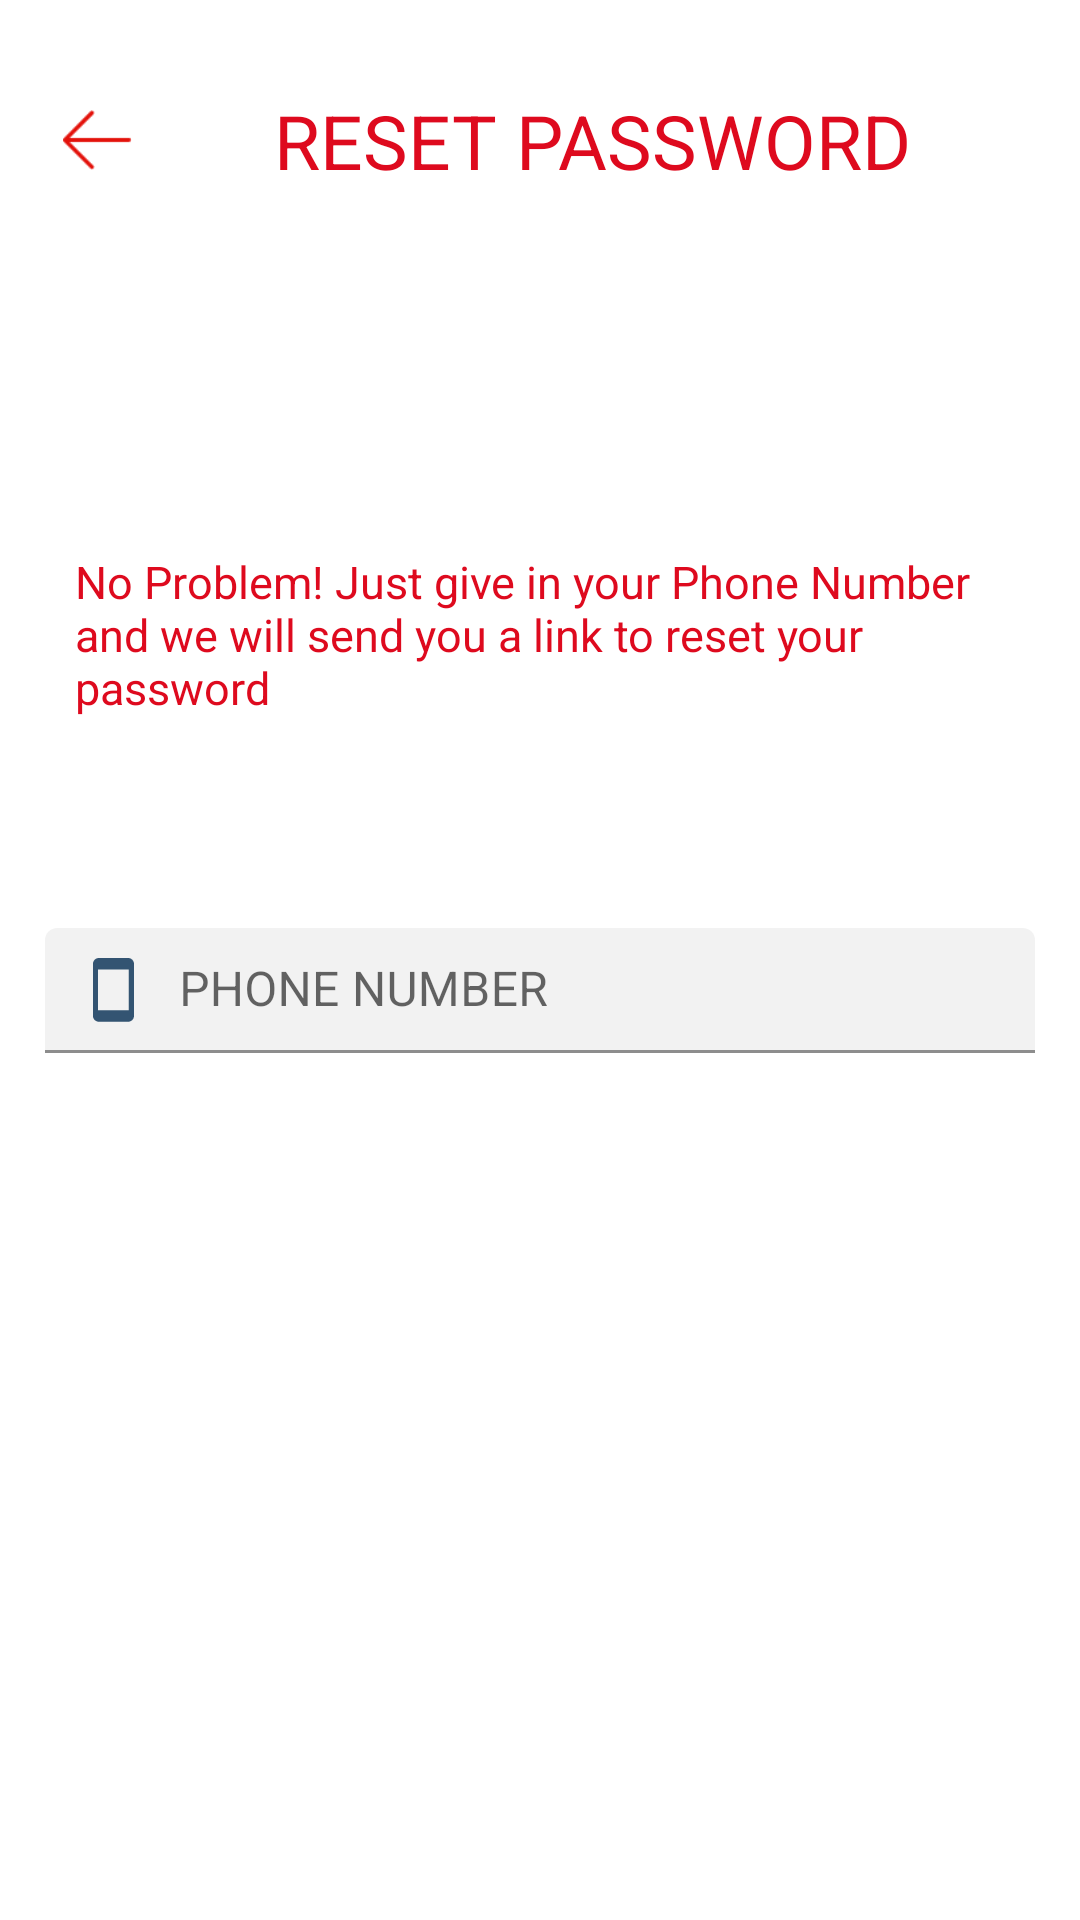

Icons on this 1080*1920 Android screen, each with its box as box=[x1, y1, x2, y2]:
arrow: box=[63, 110, 131, 170]
